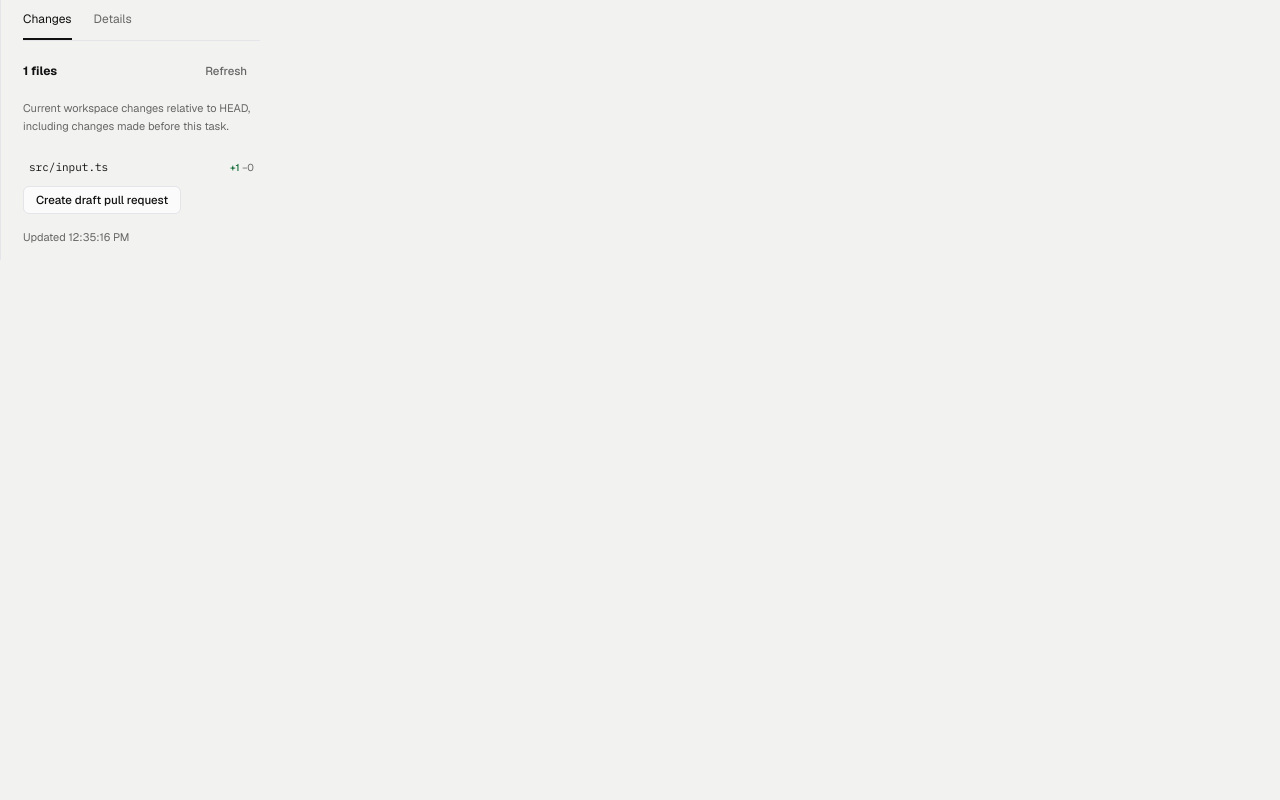
Test: Remote session inspector › opens the returned file patch and reports actual workspace details
Click the button "src/input.ts +1 −0": (142, 168) [23,149,260,186]
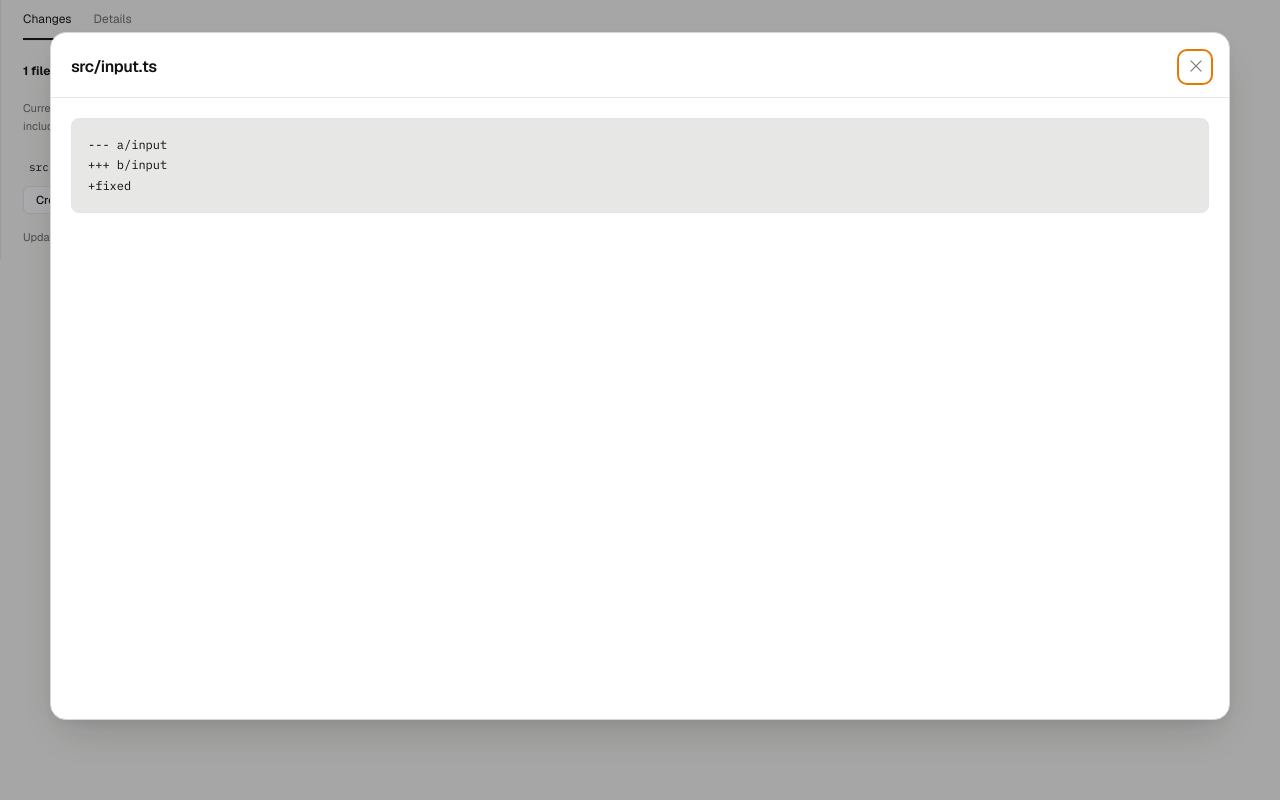
Expected: the dialog shows "+fixed", [88,137,167,193]
Press Escape
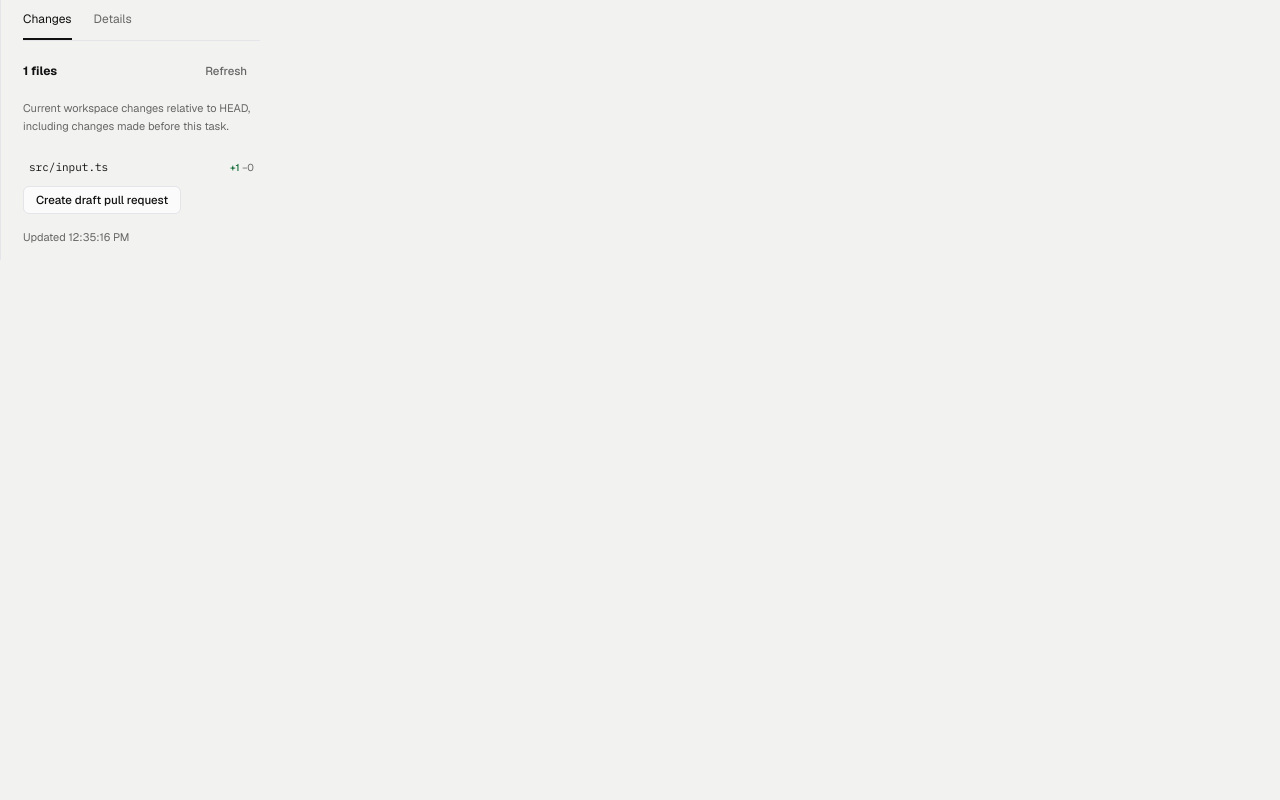
Click the tab "Details": (113, 20) [94,0,132,40]
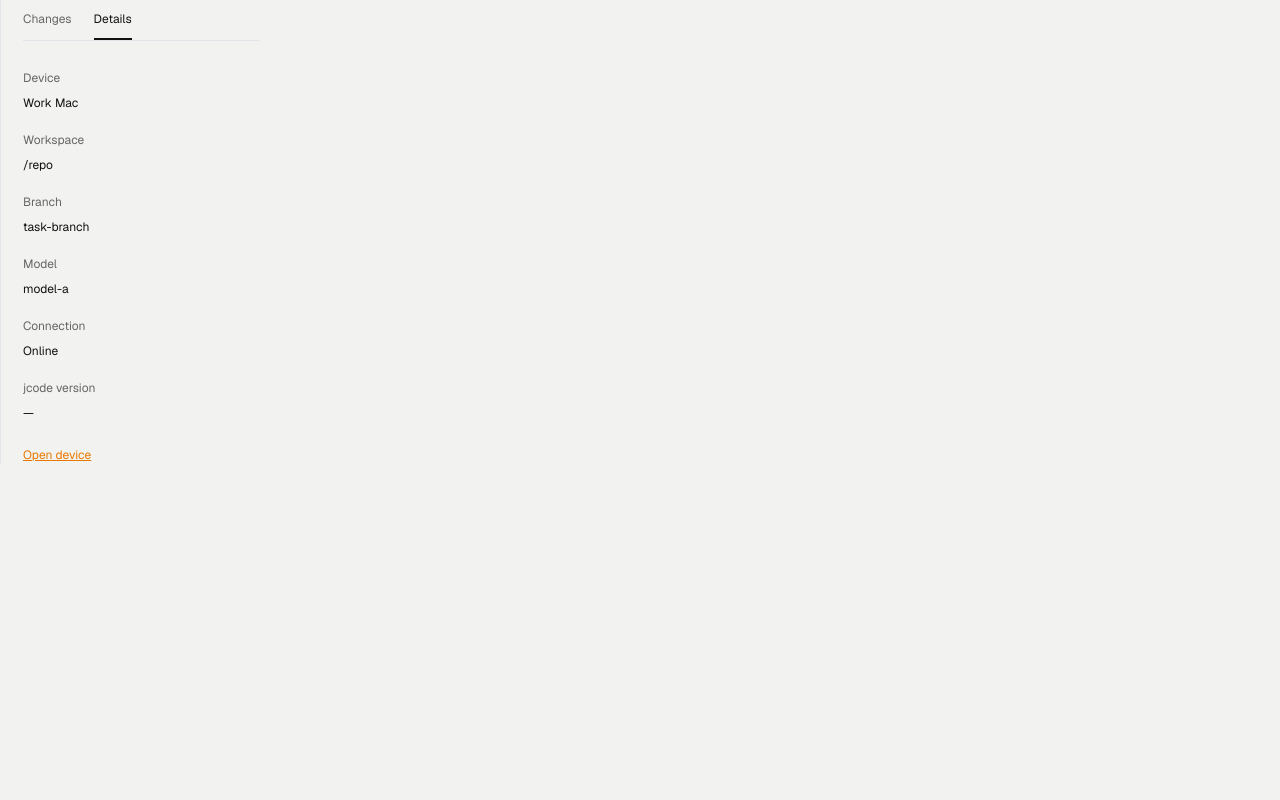
Expected: the text "task-branch" is shown, [23,219,89,235]
